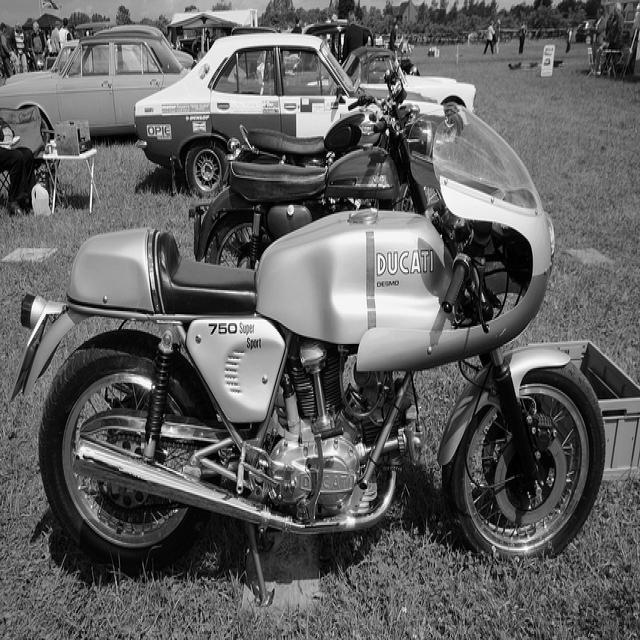monkey: (24, 9, 566, 191), (581, 1, 639, 84), (0, 119, 38, 220), (339, 11, 374, 66), (506, 14, 529, 65), (590, 7, 606, 76), (9, 22, 29, 77), (0, 21, 15, 78), (31, 21, 47, 72), (49, 20, 61, 57), (483, 21, 495, 55), (386, 20, 399, 51), (59, 18, 72, 48), (565, 25, 573, 54), (494, 20, 501, 53)
